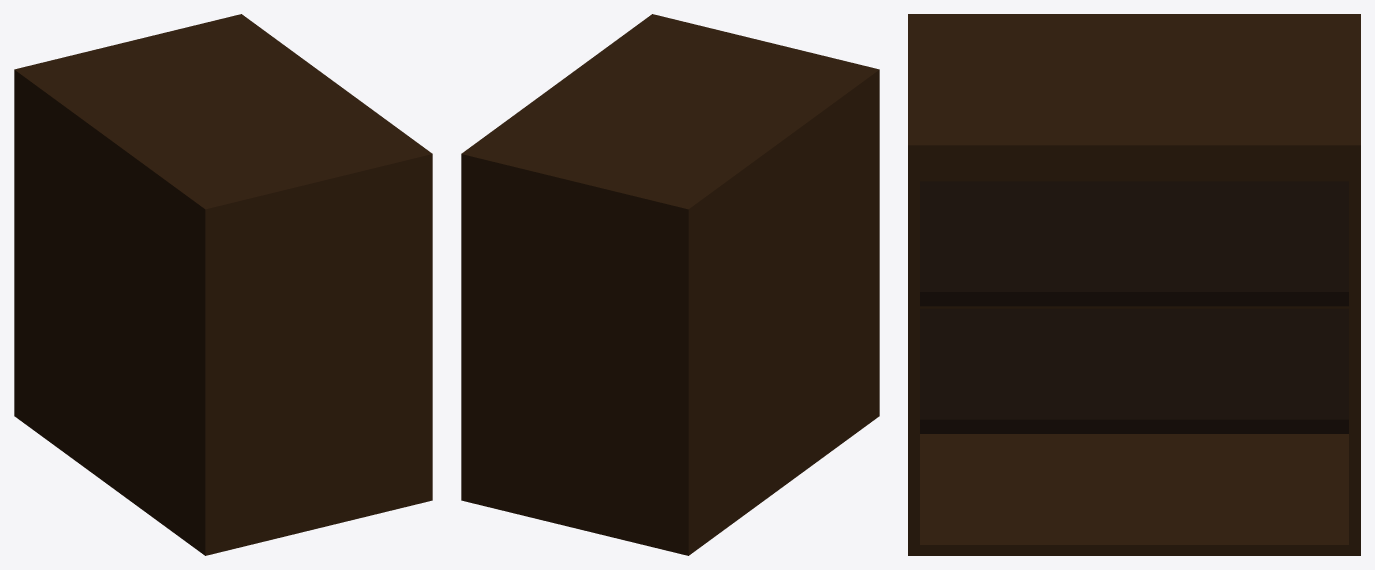
File: kastje.fbx
The picture shows the model from 3 angles, left to right: view 1: azimuth 30°, elevation 25°; view 2: azimuth 150°, elevation 25°; view 3: azimuth 270°, elevation 25°; orthographic projection. The views are drawn at different scales.
Parts seen in each view (by area): view 1: Cube.030; view 2: Cube.030; view 3: Cube.030, Cube.031, Cube.032.
Part boxes in pixels (box(x1,y1,x2,y2)): Cube.030: box(14, 14, 432, 555); Cube.030: box(461, 14, 879, 555); Cube.030: box(908, 14, 1360, 555); Cube.031: box(920, 308, 1348, 433); Cube.032: box(920, 181, 1348, 306).
Size of the model in its own units: 137 by 200 by 200.
